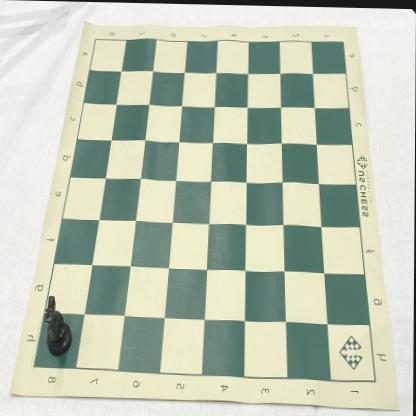black-knight: (45, 295, 73, 357)
